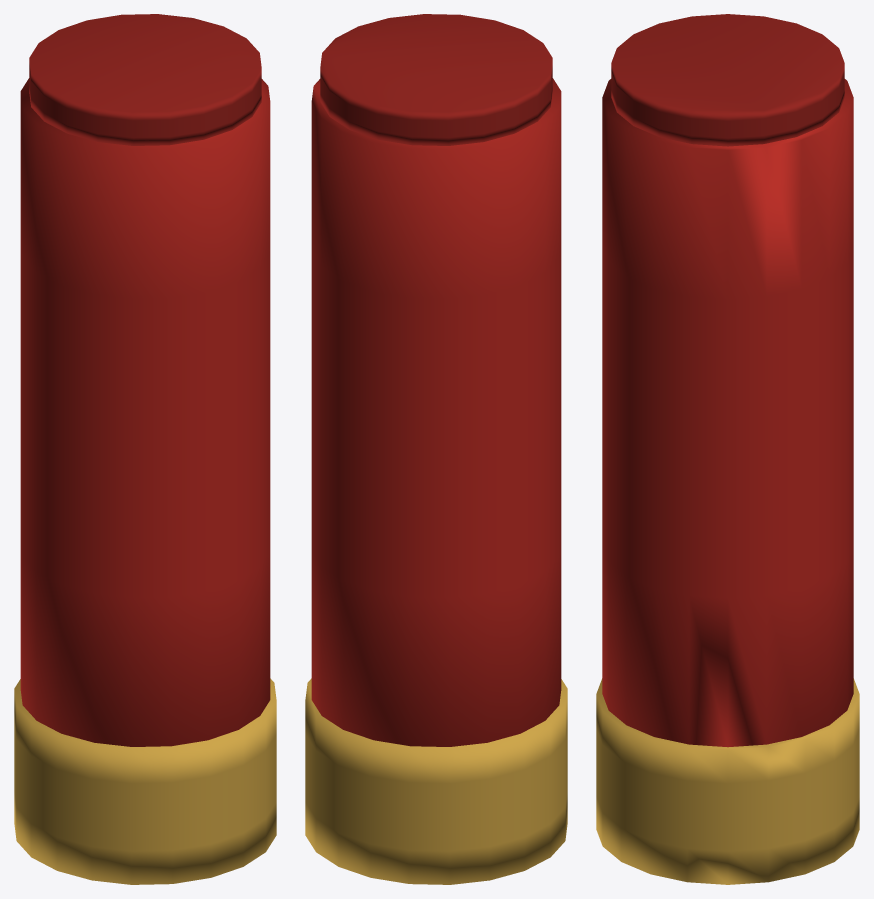
The model's file is cartucho_12.glb.
3 renders of one model, left to right at view 1: azimuth 30°, elevation 25°; view 2: azimuth 150°, elevation 25°; view 3: azimuth 270°, elevation 25°, orthographic.
Visible parts, largest first — view 1: obj_12, obj_11, obj_13; view 2: obj_12, obj_11, obj_13; view 3: obj_12, obj_11, obj_13.
Boxes of the visible parts, x1=… form: obj_12: x1=20, y1=78, x2=270, y2=746; obj_11: x1=14, y1=678, x2=276, y2=884; obj_13: x1=29, y1=14, x2=261, y2=145; obj_12: x1=311, y1=78, x2=561, y2=746; obj_11: x1=305, y1=678, x2=567, y2=884; obj_13: x1=320, y1=14, x2=552, y2=145; obj_12: x1=602, y1=79, x2=853, y2=747; obj_11: x1=596, y1=678, x2=859, y2=884; obj_13: x1=611, y1=14, x2=844, y2=146.
Bounding box in the file's own units: 0.0212 × 0.068 × 0.0212.
